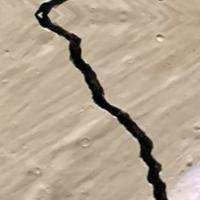crack: (28, 0, 170, 199)
